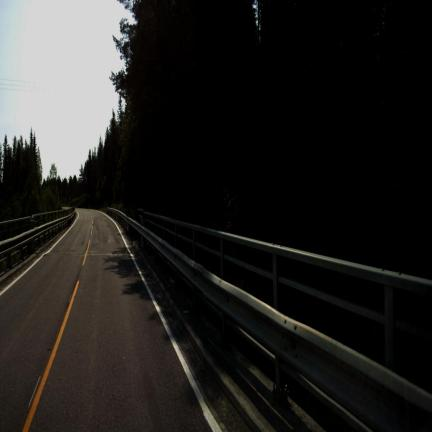Road: (0, 210, 210, 430)
